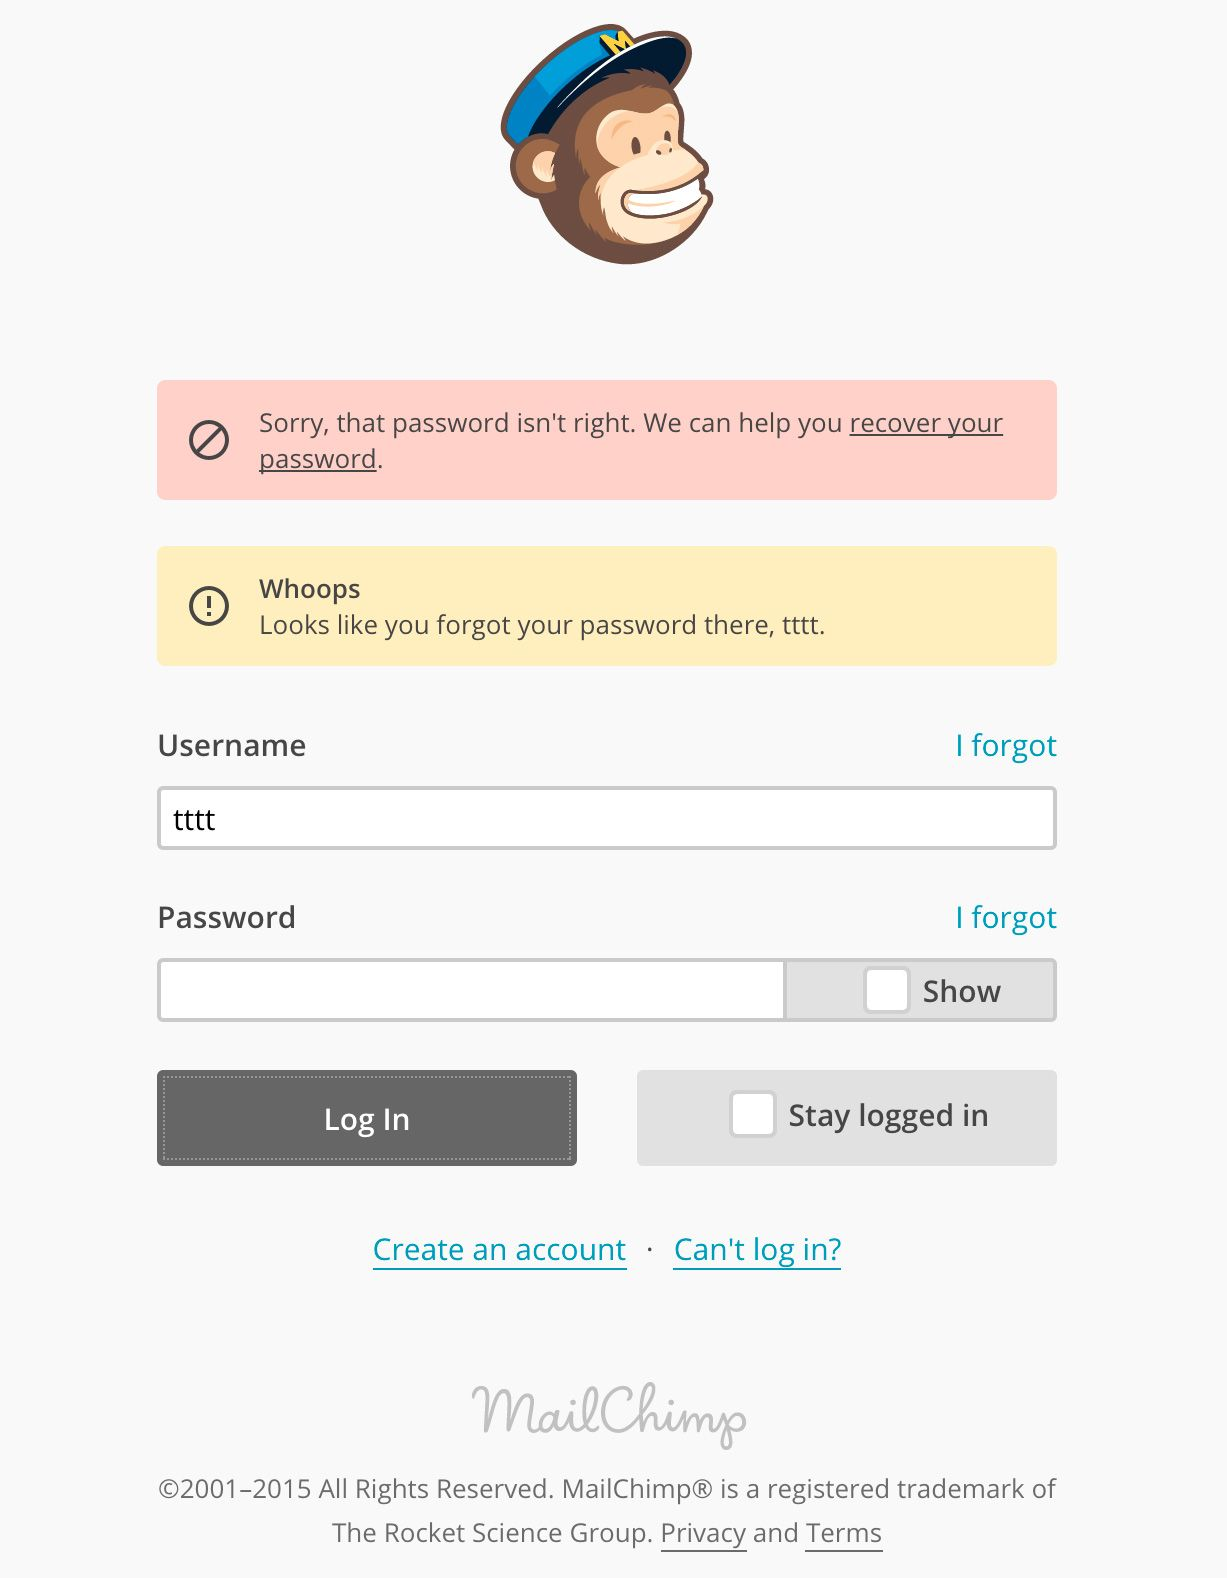error_message: (254, 406, 1013, 482)
